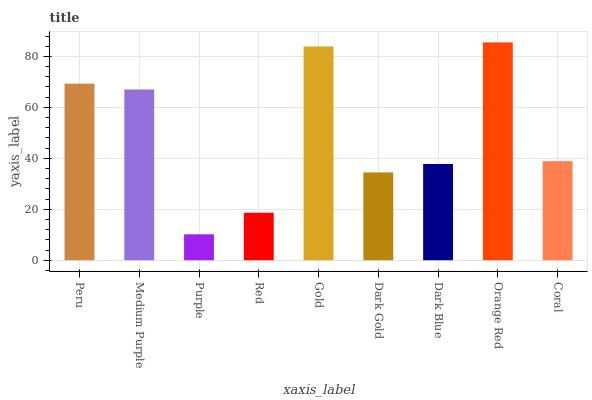axis: (41, 32, 56, 268)
label: (128, 278, 148, 375), (488, 278, 509, 356), (370, 279, 391, 345), (432, 279, 448, 345), (192, 279, 208, 326), (549, 278, 567, 317), (310, 278, 328, 316), (72, 280, 88, 314), (253, 279, 268, 310)
rectangle: (482, 43, 514, 260), (304, 48, 333, 261), (124, 88, 155, 261), (65, 83, 94, 261), (423, 163, 454, 261), (542, 161, 572, 260), (364, 173, 392, 260), (245, 212, 274, 260), (183, 233, 214, 261)
title: (44, 5, 89, 31)
